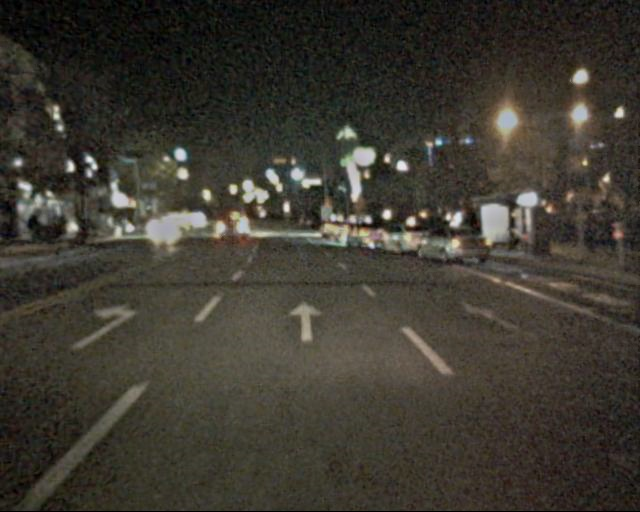person: (578, 206, 600, 262), (547, 207, 568, 257), (503, 225, 528, 258)
